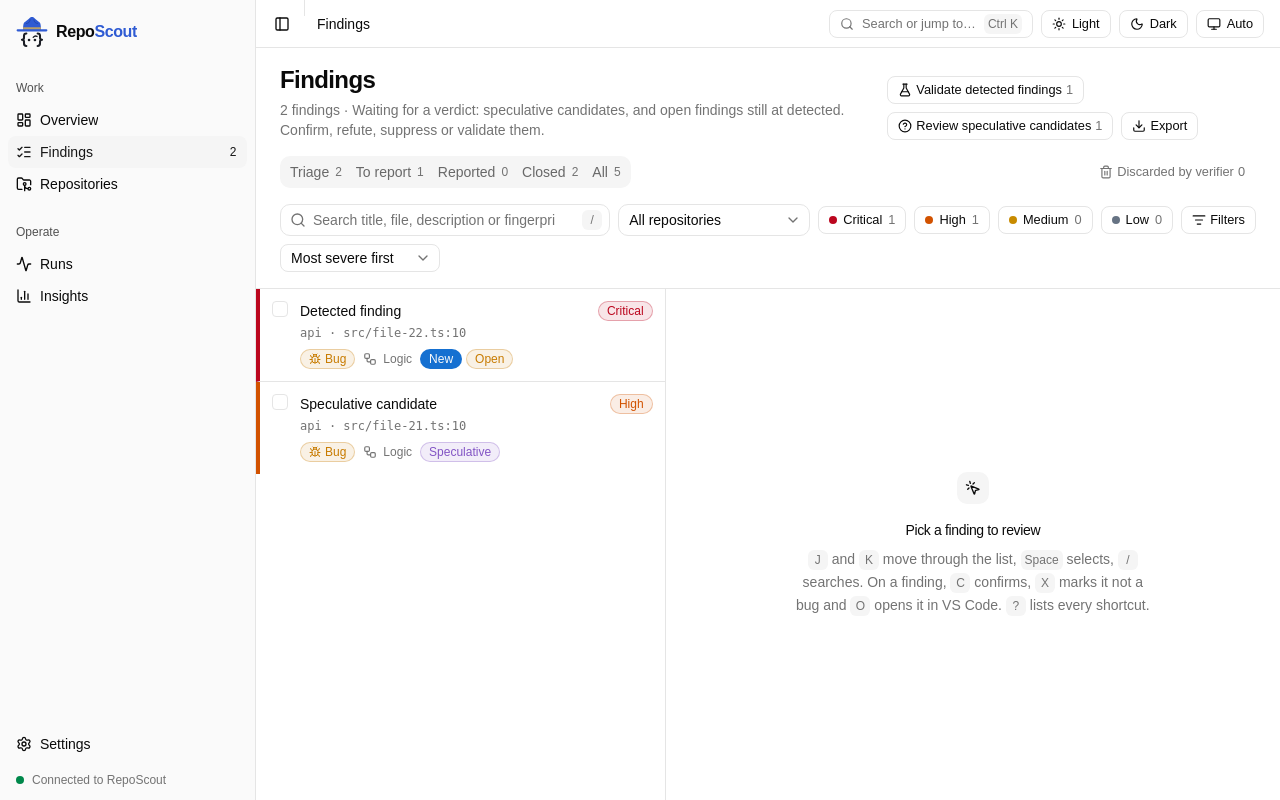
Test case: the app shell › opens the command palette from inside a text field
Click the search field named "Search findings".
click(445, 220)  # box [280,204,610,236]
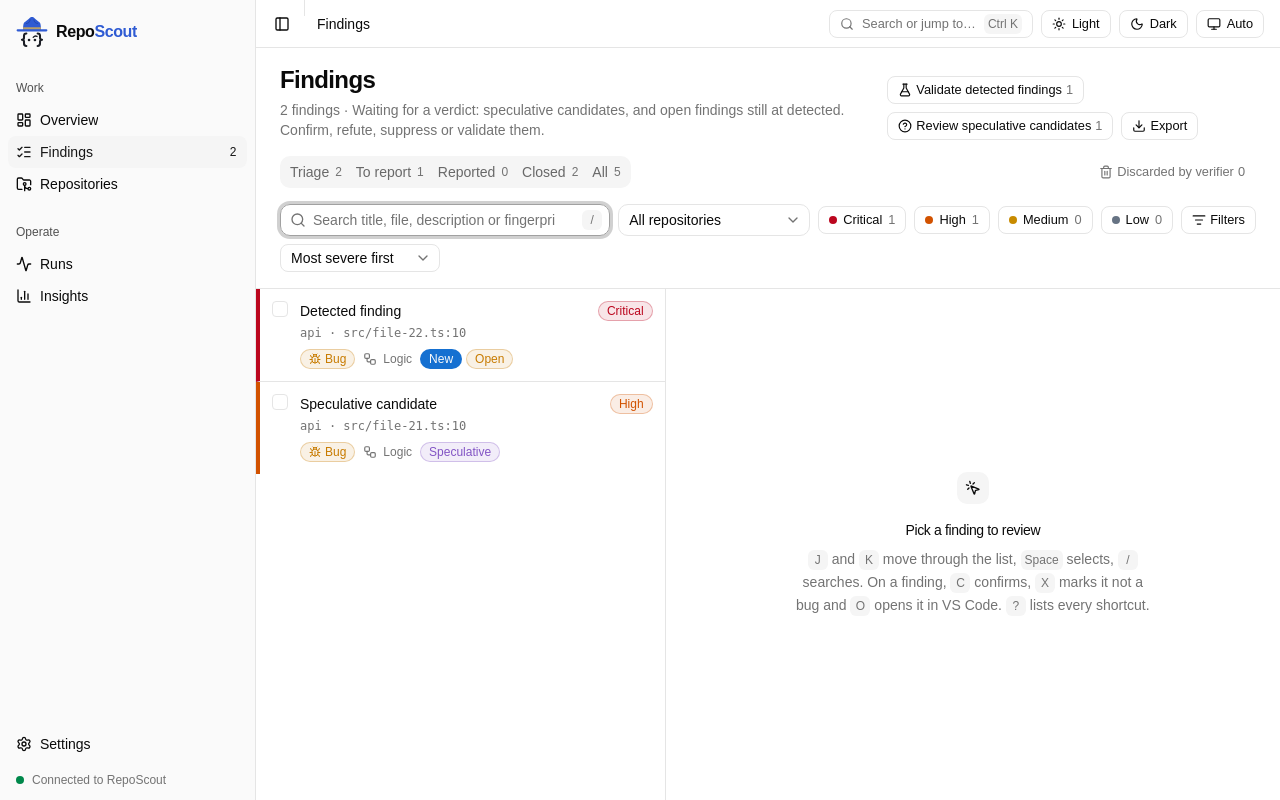
Type keys "{Control>}k{/Control}"
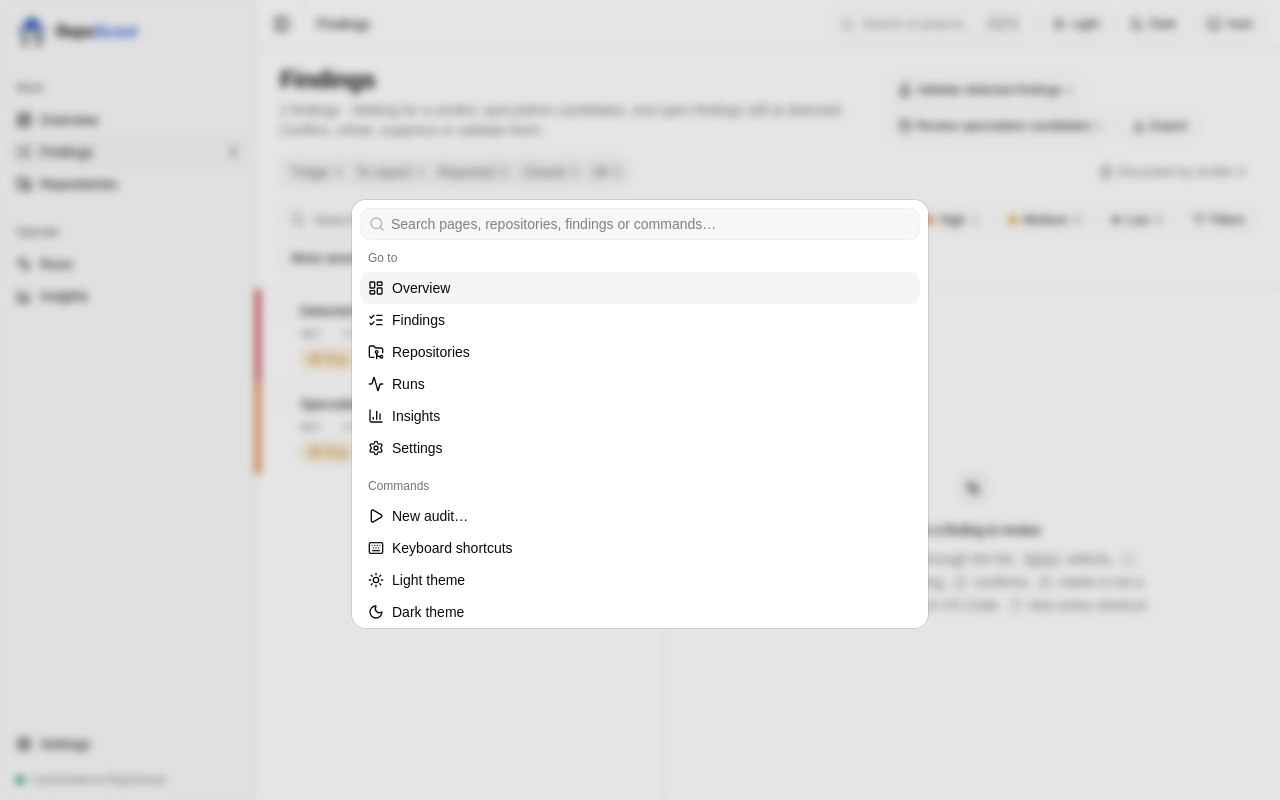
Check: the dialog named "Command palette" is shown, box [352,200,928,628]
